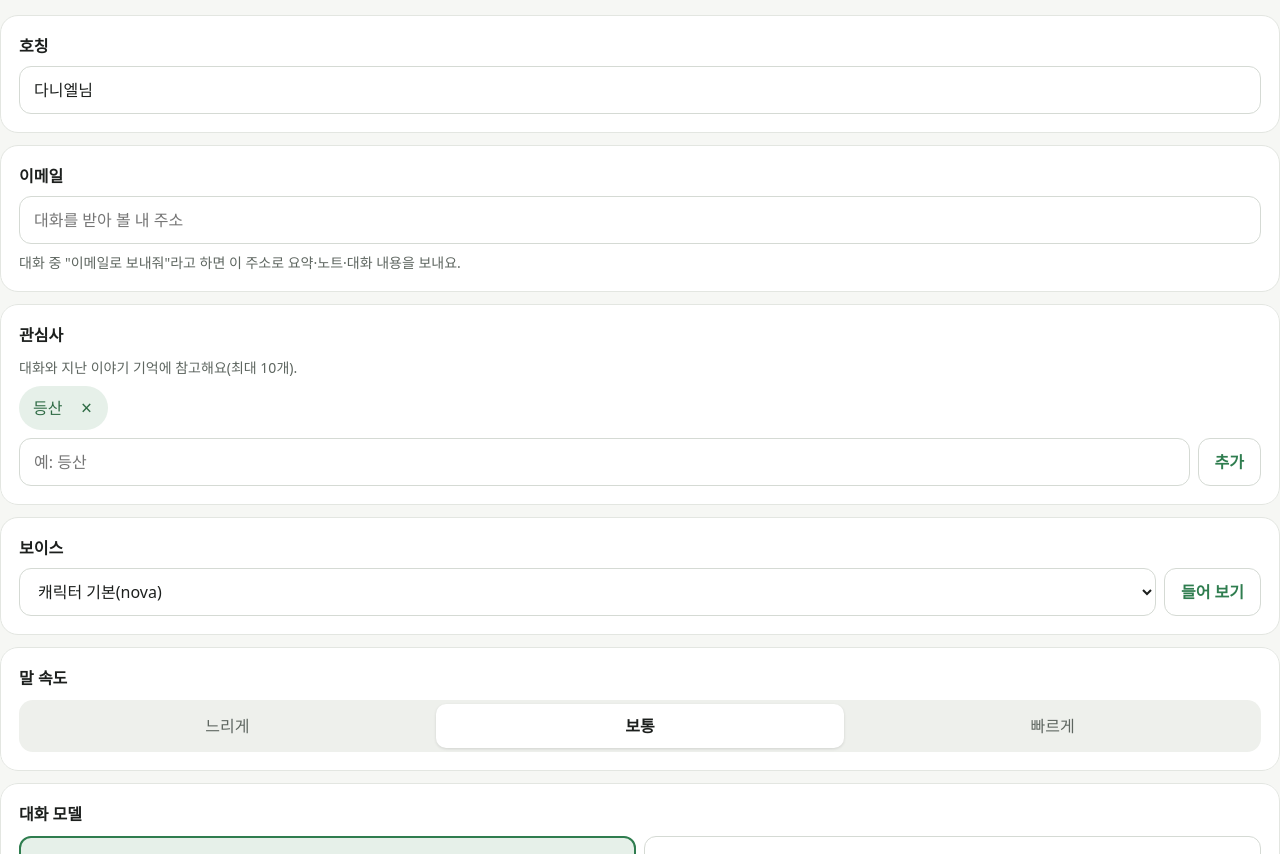
it: SettingsScreen › 이메일을 저장하고 비우면 null로 보낸다
Step 1. Type " me@example.com " into the field labelled "이메일" → (640, 220), box [19,196,1261,244]
(page scrolled)
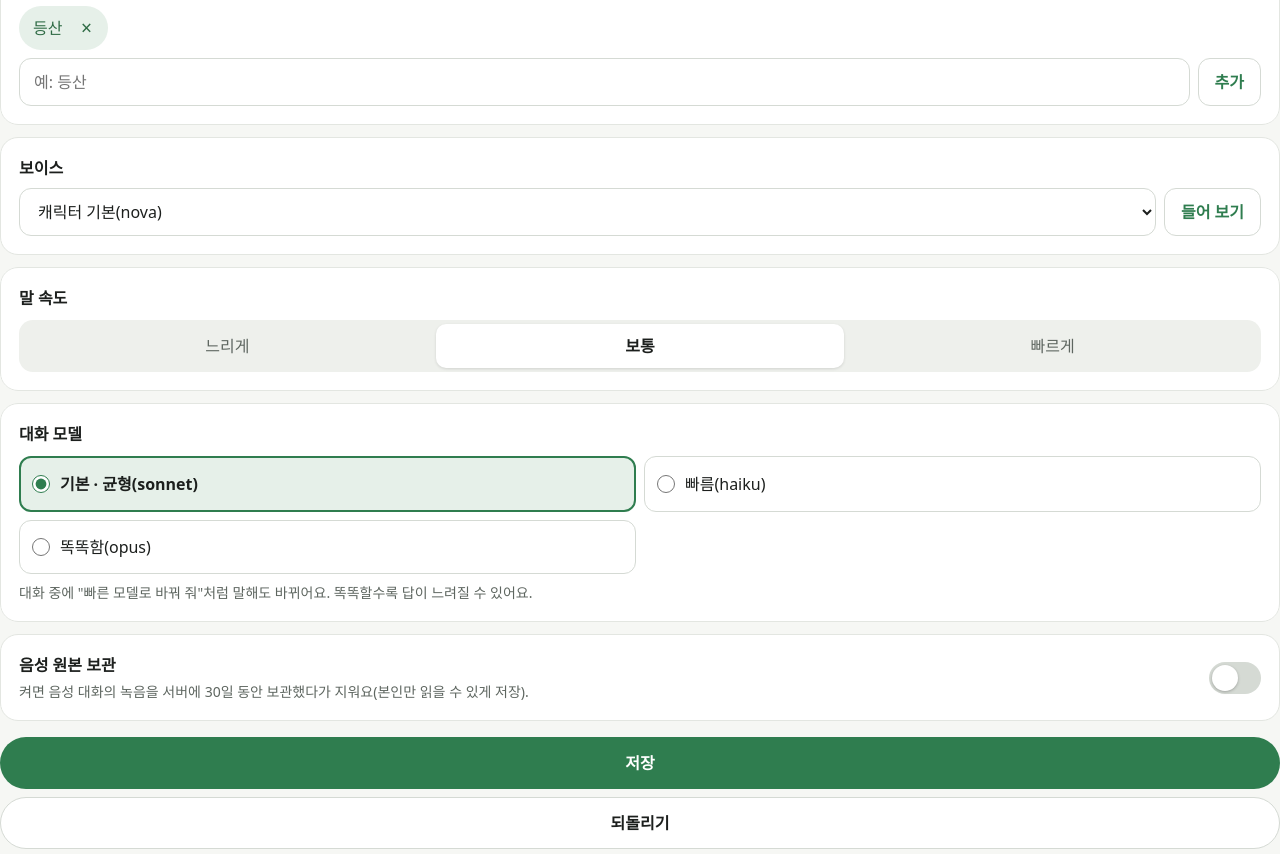
Step 2. Click the button "저장" → (640, 763), box [0,737,1279,789]
(page scrolled)
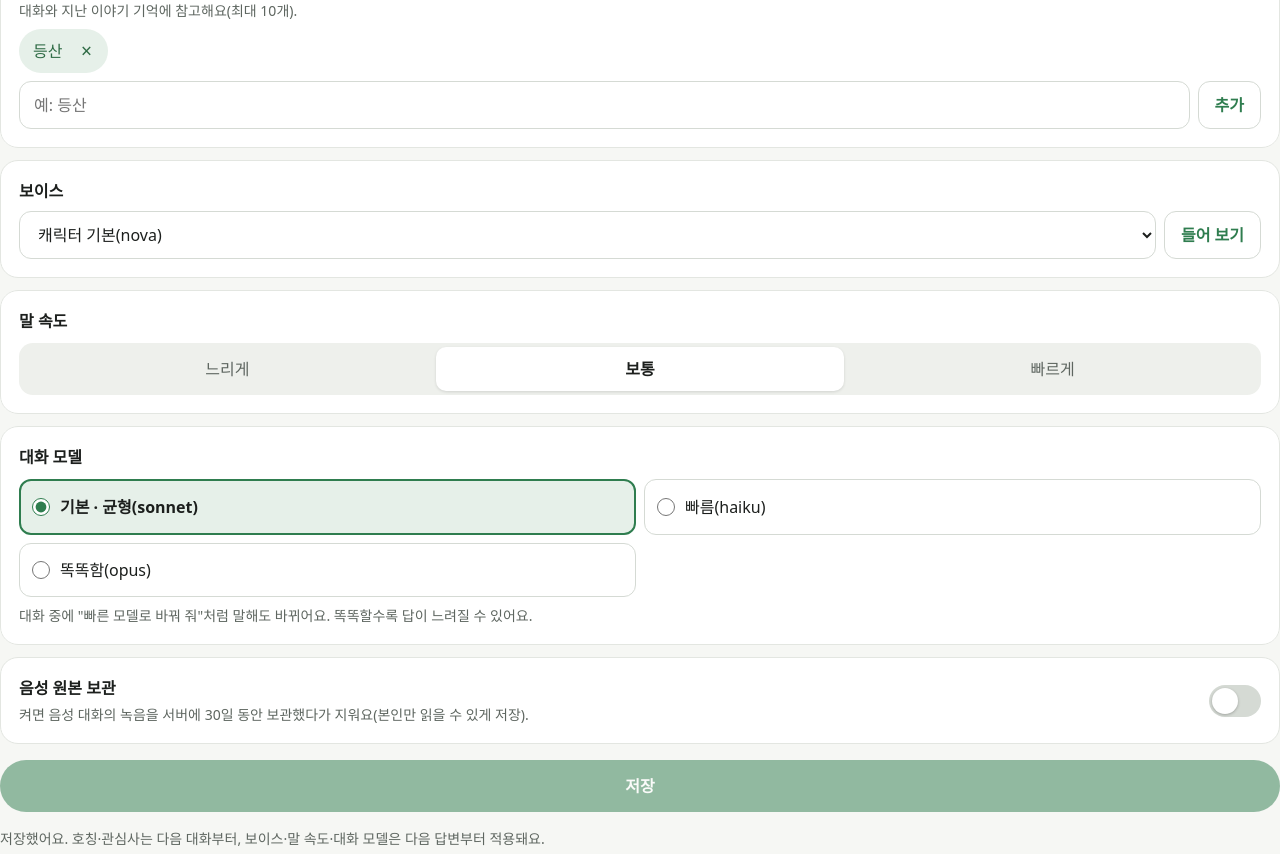
Expected: the message shows "저장했어요", [0,829,545,848]
